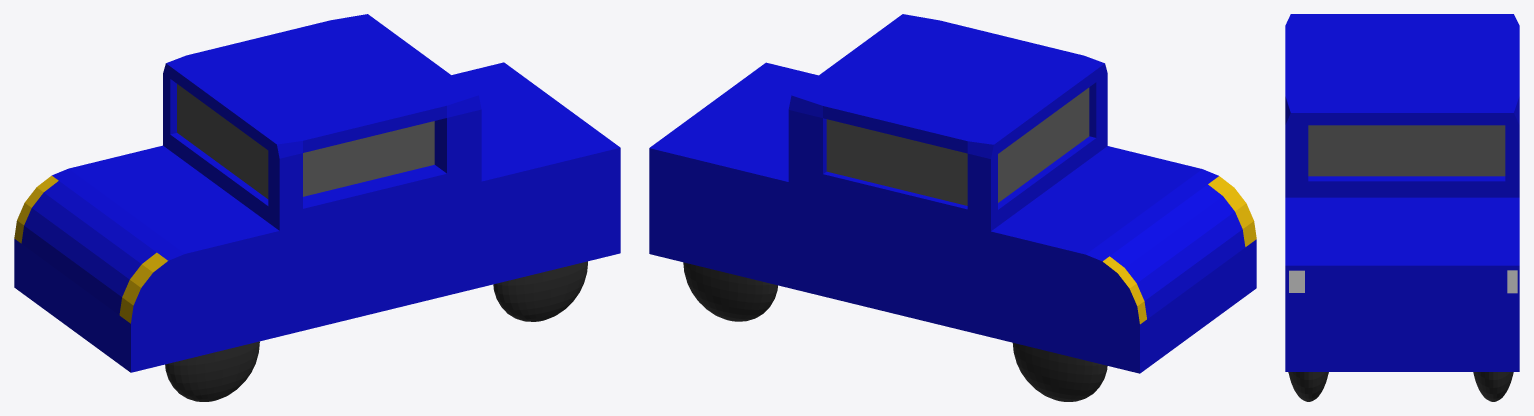
Rendered from Car_GGJ2.fbx.
3 views of the same model, side by side, from view 1: azimuth 30°, elevation 25°; view 2: azimuth 150°, elevation 25°; view 3: azimuth 270°, elevation 25° (orthographic).
Parts seen in each view (by area): view 1: Cube; view 2: Cube; view 3: Cube.
Boxes of the visible parts, x1=… form: Cube: x1=14, y1=14, x2=620, y2=401; Cube: x1=649, y1=14, x2=1256, y2=401; Cube: x1=1285, y1=14, x2=1519, y2=401.
Size of the model in its own units: 485 by 235 by 200.
